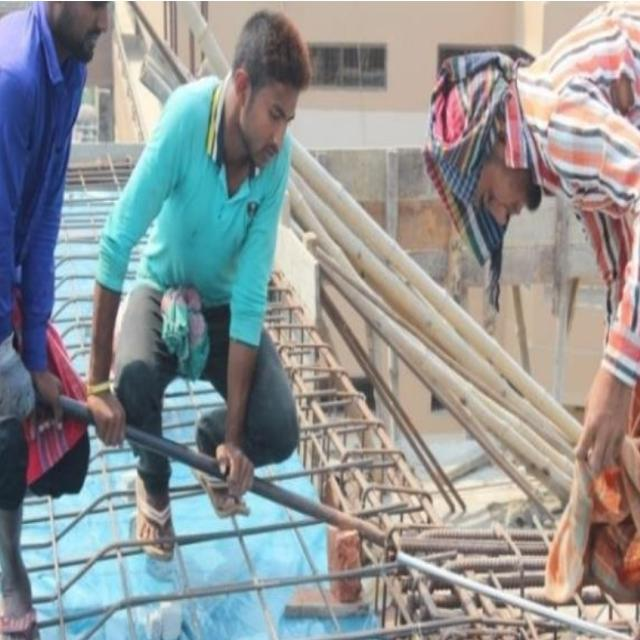not-gloved: (577, 374, 634, 475), (211, 438, 265, 503), (0, 333, 36, 425), (95, 380, 134, 453), (44, 356, 64, 427)
